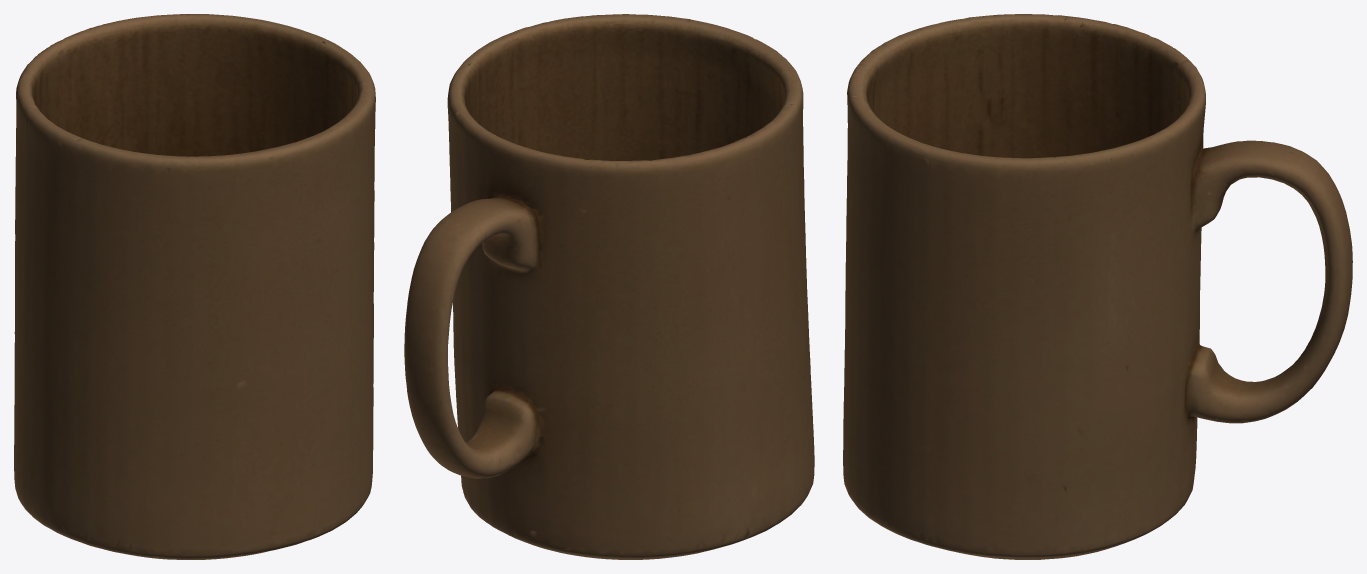
File: mug.glb
The picture shows the model from 3 angles, left to right: view 1: azimuth 30°, elevation 25°; view 2: azimuth 150°, elevation 25°; view 3: azimuth 270°, elevation 25°; orthographic projection.
Parts seen in each view (by area): view 1: geometry_0; view 2: geometry_0; view 3: geometry_0.
Part boxes in pixels (x1,y1,x2,y2): geometry_0: (14,14,375,559); geometry_0: (404,14,814,559); geometry_0: (843,14,1352,559).
Bounding box in the file's own units: 0.7169 × 0.8985 × 1.
Materials: 1 (1 with a texture image).
